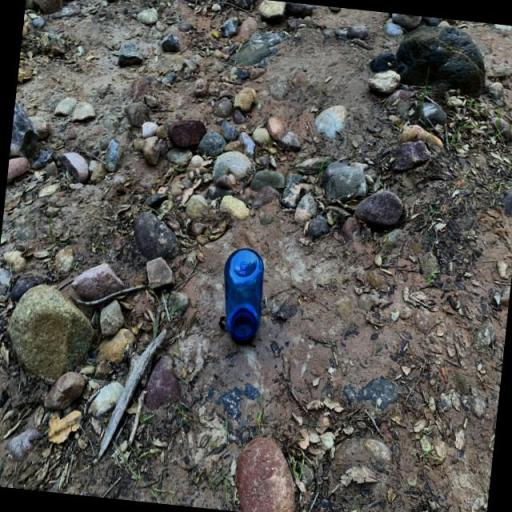bottle: (216, 247, 266, 346)
